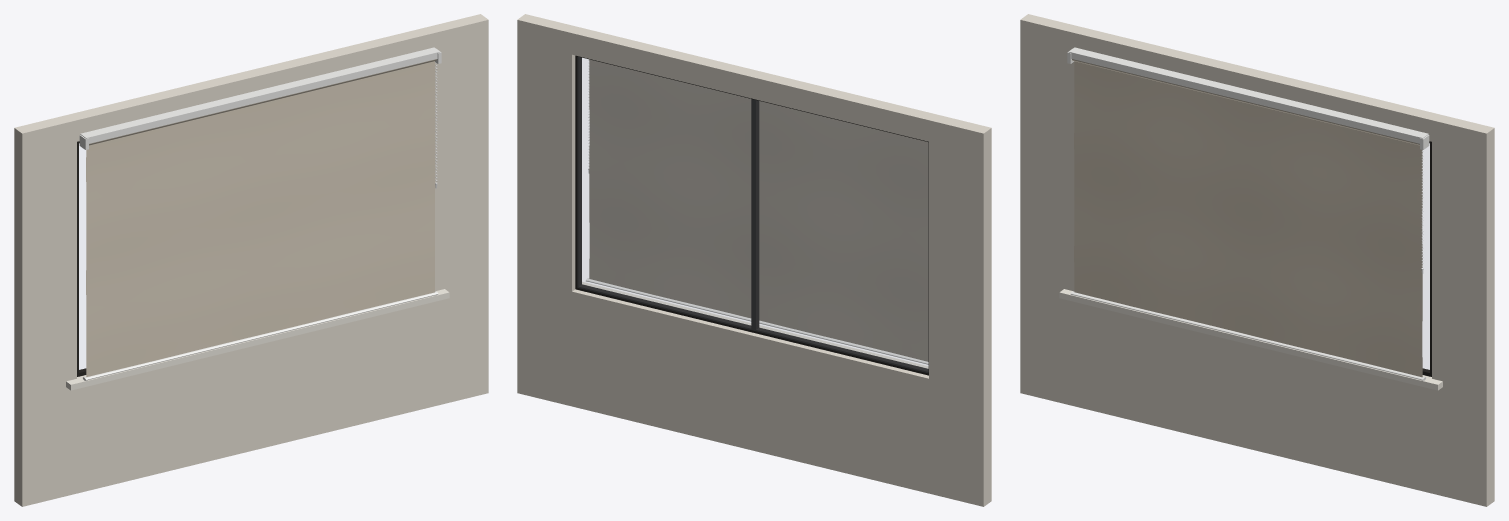
Rendered from curtain-roller-linen.glb.
3 views of the same model, side by side, from view 1: azimuth 30°, elevation 25°; view 2: azimuth 150°, elevation 25°; view 3: azimuth 330°, elevation 25° (orthographic).
Parts seen in each view (by area): view 1: RollerFabricPanel, RollerLowerWall, RollerLeftEdgeWall, RollerRightEdgeWall, RollerHeaderWall, RollerTopHood, WindowSill_Roller, WindowGlass_Roller, RollerBottomRailMesh, RollerTubeWrapMesh, CurtainRollerLinenBlind; view 2: WindowGlass_Roller, RollerFabricPanel, RollerLowerWall, RollerLeftEdgeWall, RollerHeaderWall, RollerRightEdgeWall, CurtainRollerLinenBlind, RollerBottomRailMesh, WindowSill_Roller; view 3: RollerFabricPanel, RollerLowerWall, RollerRightEdgeWall, RollerLeftEdgeWall, RollerHeaderWall, RollerTopHood, WindowSill_Roller, WindowGlass_Roller, RollerBottomRailMesh, RollerTubeWrapMesh, CurtainRollerLinenBlind.
Part boxes in pixels (x1,y1,x2,y2): RollerFabricPanel: (86,61,434,376); RollerLowerWall: (14,278,488,506); RollerLeftEdgeWall: (14,142,76,391); RollerRightEdgeWall: (435,41,488,291); RollerHeaderWall: (14,14,488,154); RollerTopHood: (80,47,439,143); WindowSill_Roller: (66,289,449,390); WindowGlass_Roller: (79,146,85,369); RollerBottomRailMesh: (86,292,436,379); RollerTubeWrapMesh: (89,59,436,145); CurtainRollerLinenBlind: (77,49,441,376); WindowGlass_Roller: (578,57,927,372); RollerFabricPanel: (589,59,928,361); RollerLowerWall: (517,278,991,506); RollerLeftEdgeWall: (929,142,991,391); RollerHeaderWall: (517,14,991,154); RollerRightEdgeWall: (517,41,575,291); CurtainRollerLinenBlind: (575,55,928,375); RollerBottomRailMesh: (588,279,928,364); WindowSill_Roller: (582,281,928,368); RollerFabricPanel: (1074,61,1422,377); RollerLowerWall: (1020,278,1494,506); RollerRightEdgeWall: (1432,142,1494,391); RollerLeftEdgeWall: (1020,41,1074,291); RollerHeaderWall: (1020,14,1494,154); RollerTopHood: (1069,47,1428,143); WindowSill_Roller: (1059,289,1442,390); WindowGlass_Roller: (1423,146,1429,369); RollerBottomRailMesh: (1072,292,1421,379); RollerTubeWrapMesh: (1072,59,1419,145); CurtainRollerLinenBlind: (1067,49,1431,376).
Size of the model in its own units: 3.4 by 2.6 by 0.2025.
